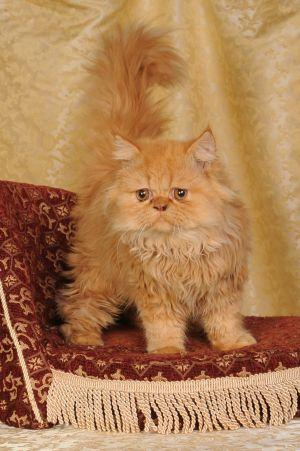persian: (102, 119, 234, 264)
